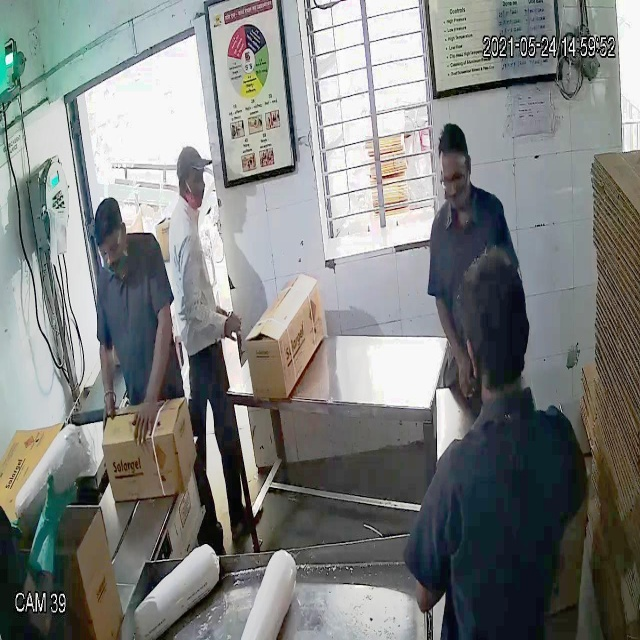Gafas: (95, 229, 127, 262), (439, 165, 471, 193)
